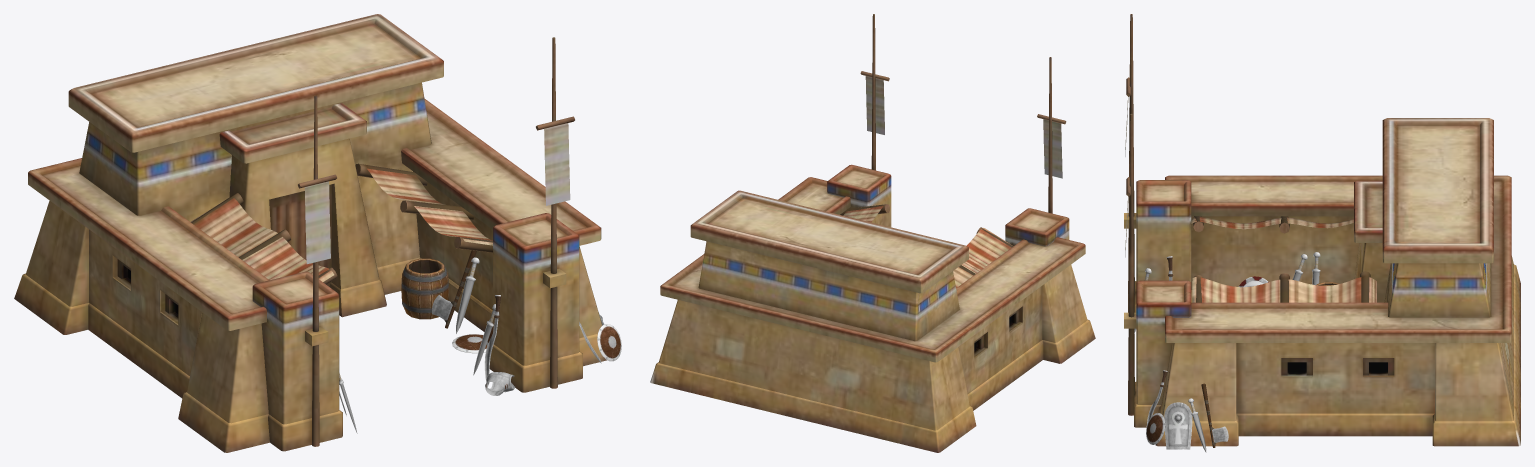
The model's file is 38-barracks.glb.
The picture shows the model from 3 angles, left to right: view 1: azimuth 30°, elevation 25°; view 2: azimuth 150°, elevation 25°; view 3: azimuth 270°, elevation 25°; orthographic projection. The views are drawn at different scales.
Bounding box in the file's own units: 8.18 × 6.8 × 8.06.
Materials: 10 (9 with a texture image).
